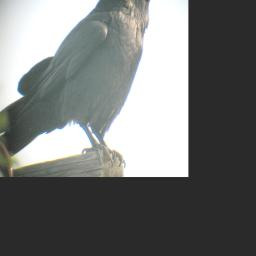Crow: (0, 0, 179, 168)
